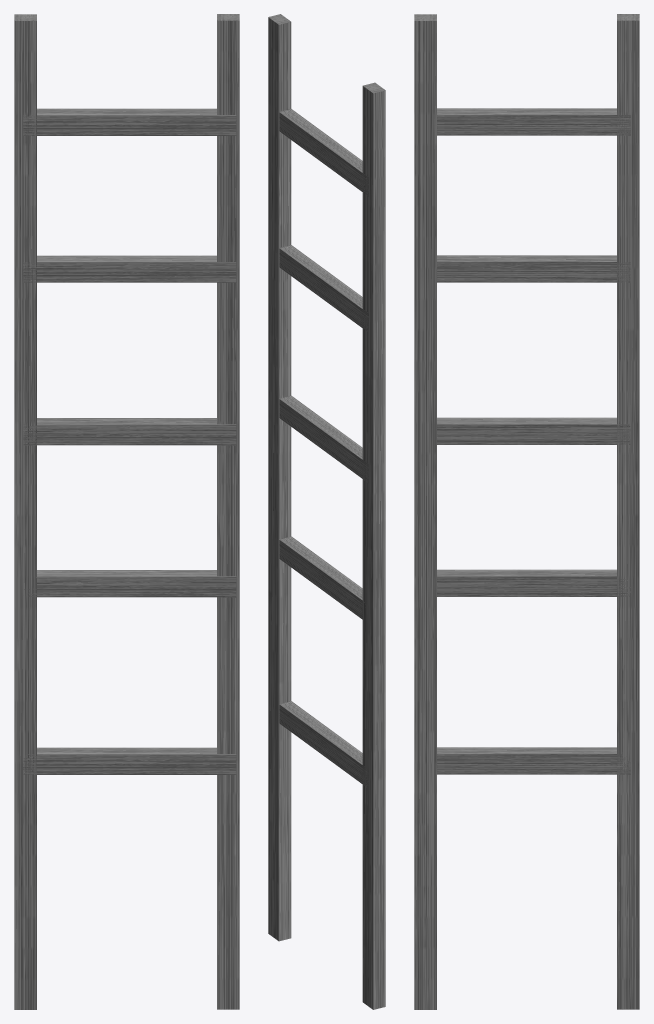
The model's file is Escalera.fbx.
3 views of the same model, side by side, from view 1: azimuth 90°, elevation 25°; view 2: azimuth 210°, elevation 25°; view 3: azimuth 270°, elevation 25° (orthographic). The views are drawn at different scales.
Visible parts, largest first — view 1: Cube; view 2: Cube; view 3: Cube.
Part boxes in pixels (x1,y1,x2,y2): Cube: (14,14,239,1009); Cube: (268,14,385,1009); Cube: (414,14,639,1009).
Size of the model in its own units: 20.88 by 1400 by 289.
